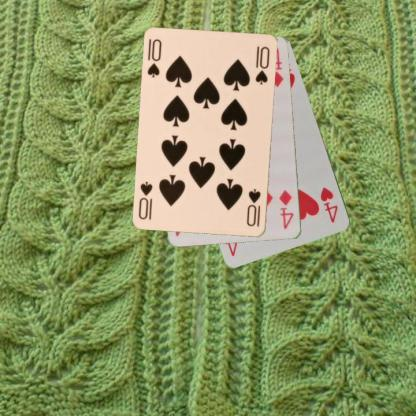10s: (145, 36, 163, 80), (244, 187, 262, 228)
4d: (276, 188, 295, 230)
4h: (318, 184, 340, 225)
